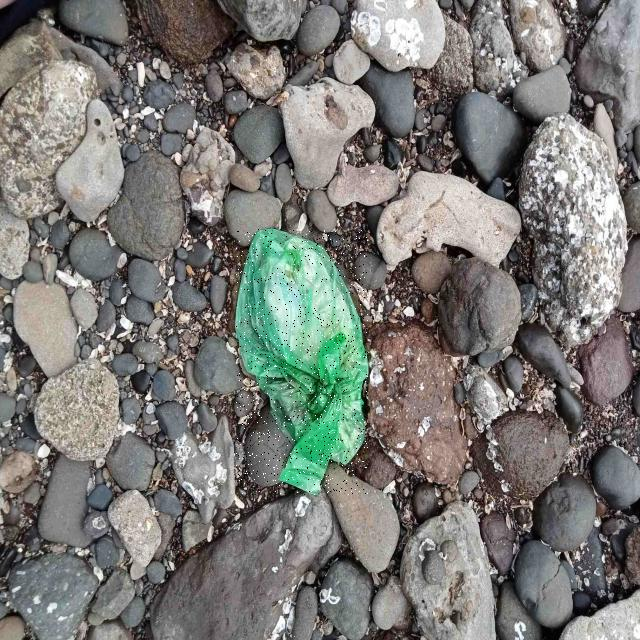plastic: (236, 229, 368, 495)
